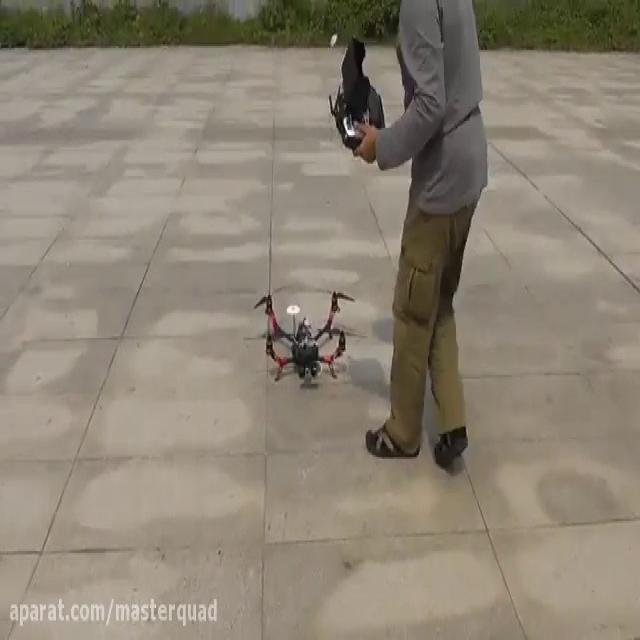drone: (252, 283, 357, 391)
